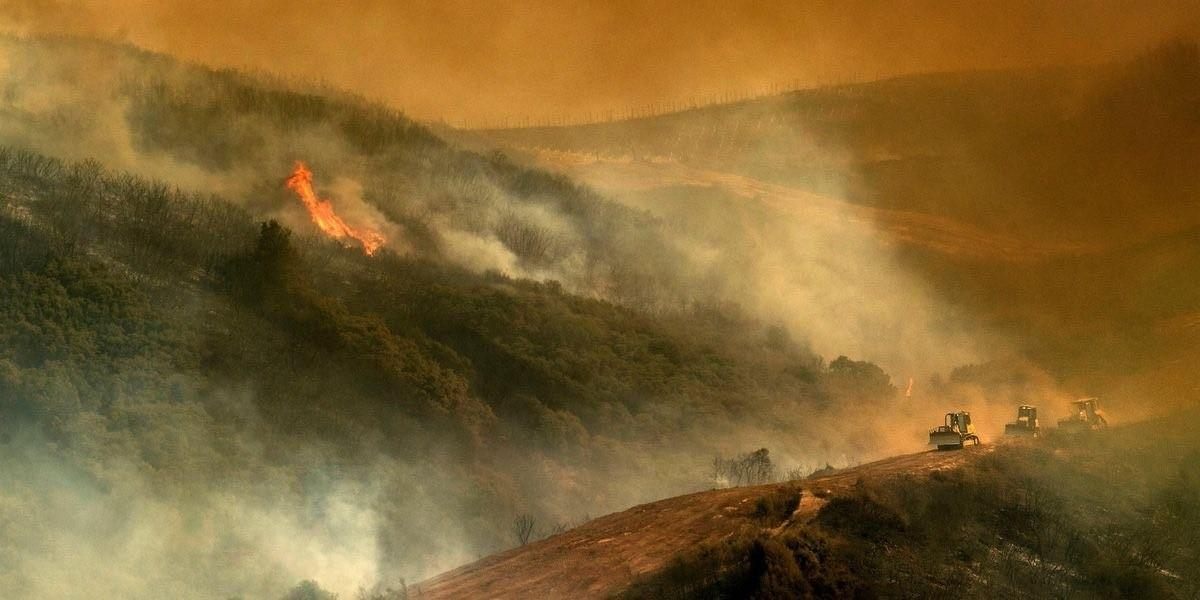fire: (257, 147, 386, 272)
smoke: (168, 349, 413, 586), (759, 241, 999, 403), (414, 176, 596, 299), (85, 124, 222, 209)
